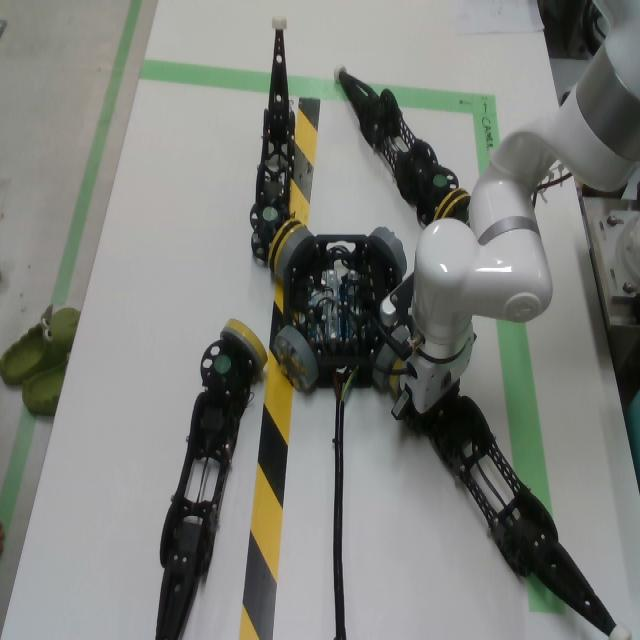body: (284, 235, 401, 389)
body_connector: (274, 325, 319, 391), (276, 227, 314, 277), (369, 227, 408, 275), (372, 344, 398, 388), (390, 325, 411, 344)
gripper: (391, 333, 476, 436)
leg: (429, 395, 633, 640), (155, 319, 267, 640), (332, 61, 471, 227), (249, 15, 304, 275)
leg_connector: (220, 319, 268, 371), (268, 217, 304, 275), (433, 188, 471, 224), (388, 357, 404, 393)
leg_marker: (214, 355, 231, 373), (263, 207, 278, 220), (433, 175, 446, 187)
